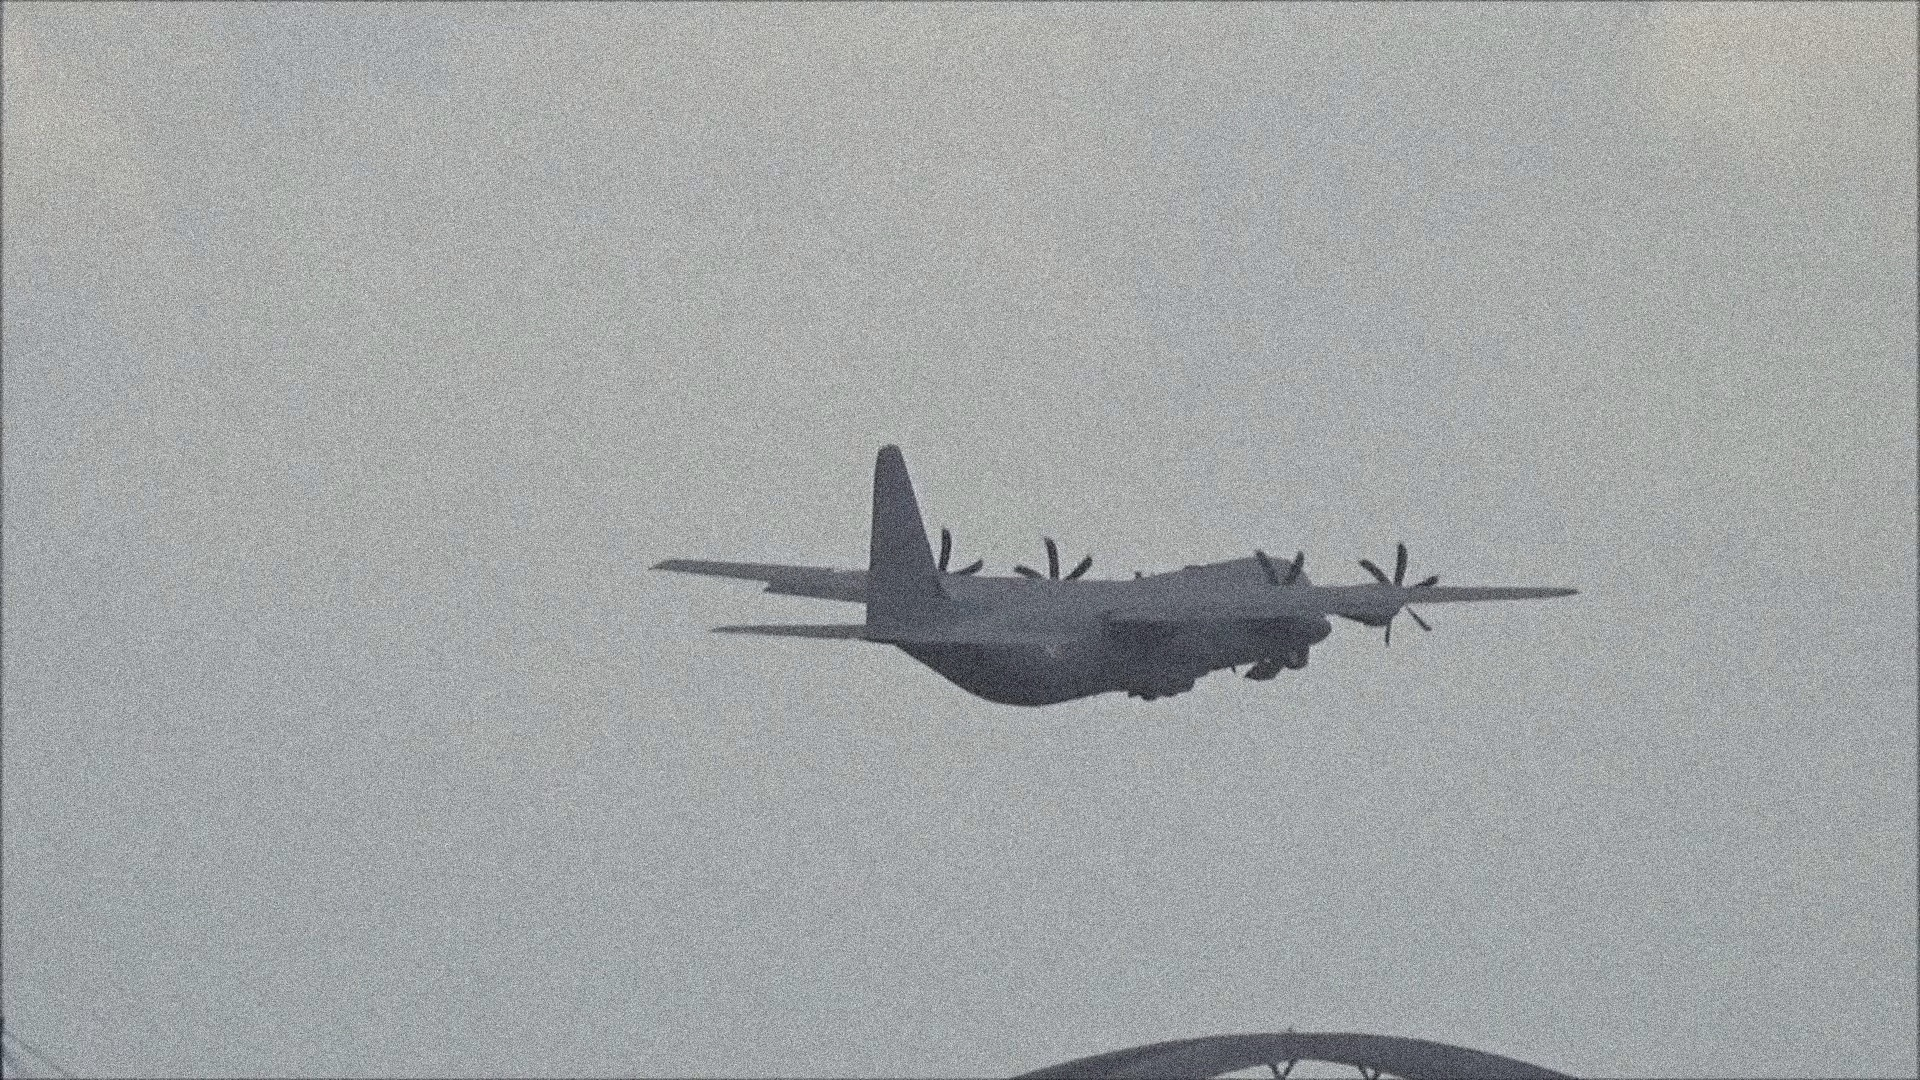Airplane: (651, 438, 1578, 708)
